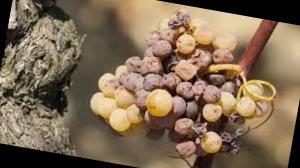Grape Rotten: (82, 0, 288, 168)
